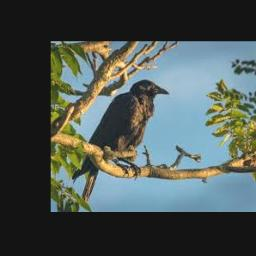Crow: (72, 79, 169, 201)
